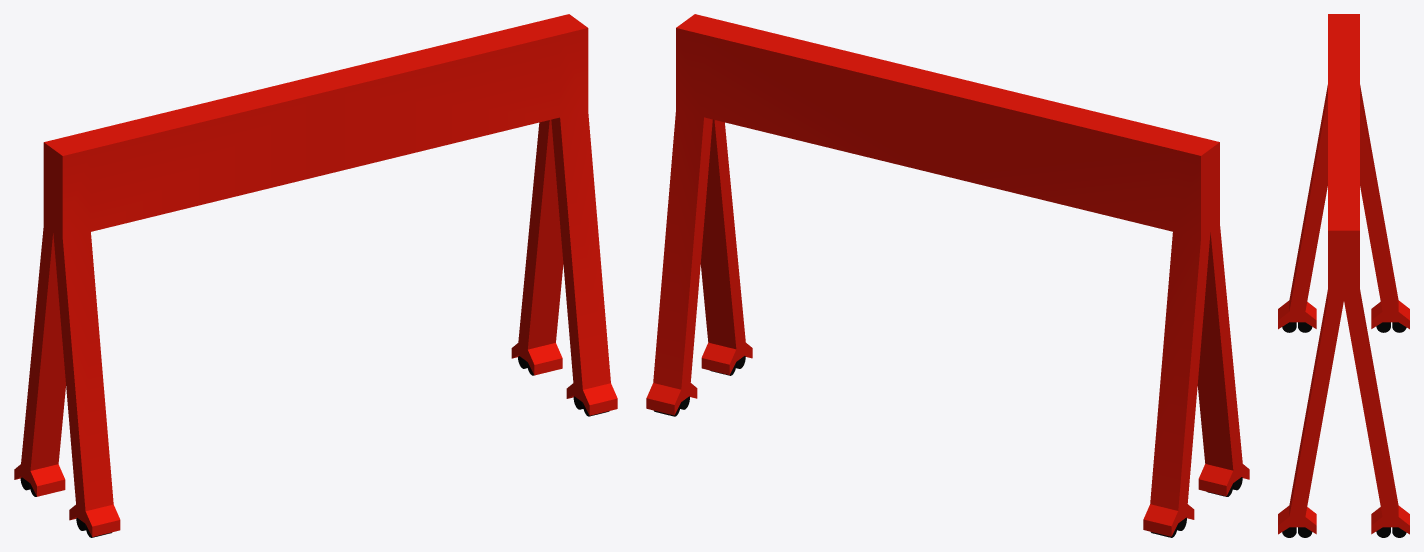
File: Crane.fbx
3 renders of one model, left to right at view 1: azimuth 30°, elevation 25°; view 2: azimuth 150°, elevation 25°; view 3: azimuth 270°, elevation 25°, orthographic. The views are drawn at different scales.
Parts seen in each view (by area): view 1: Crane; view 2: Crane; view 3: Crane.
Part boxes in pixels (bbox=[...]): Crane: bbox=[14, 14, 617, 537]; Crane: bbox=[646, 14, 1249, 537]; Crane: bbox=[1278, 14, 1409, 537].
Size of the model in its own units: 1330 by 884 by 342.
